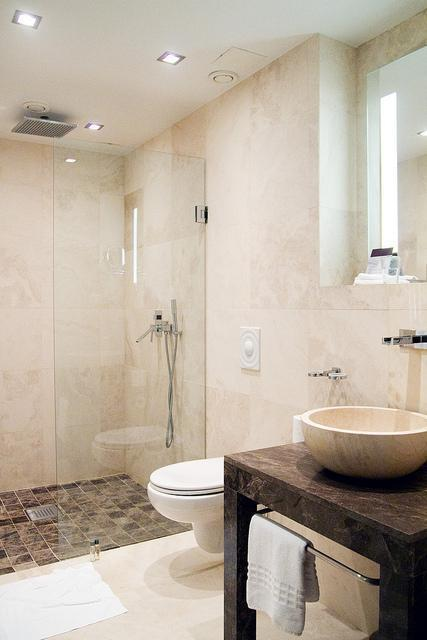Ducha: (0, 159, 205, 575)
Lavamanos: (298, 299, 426, 499)
